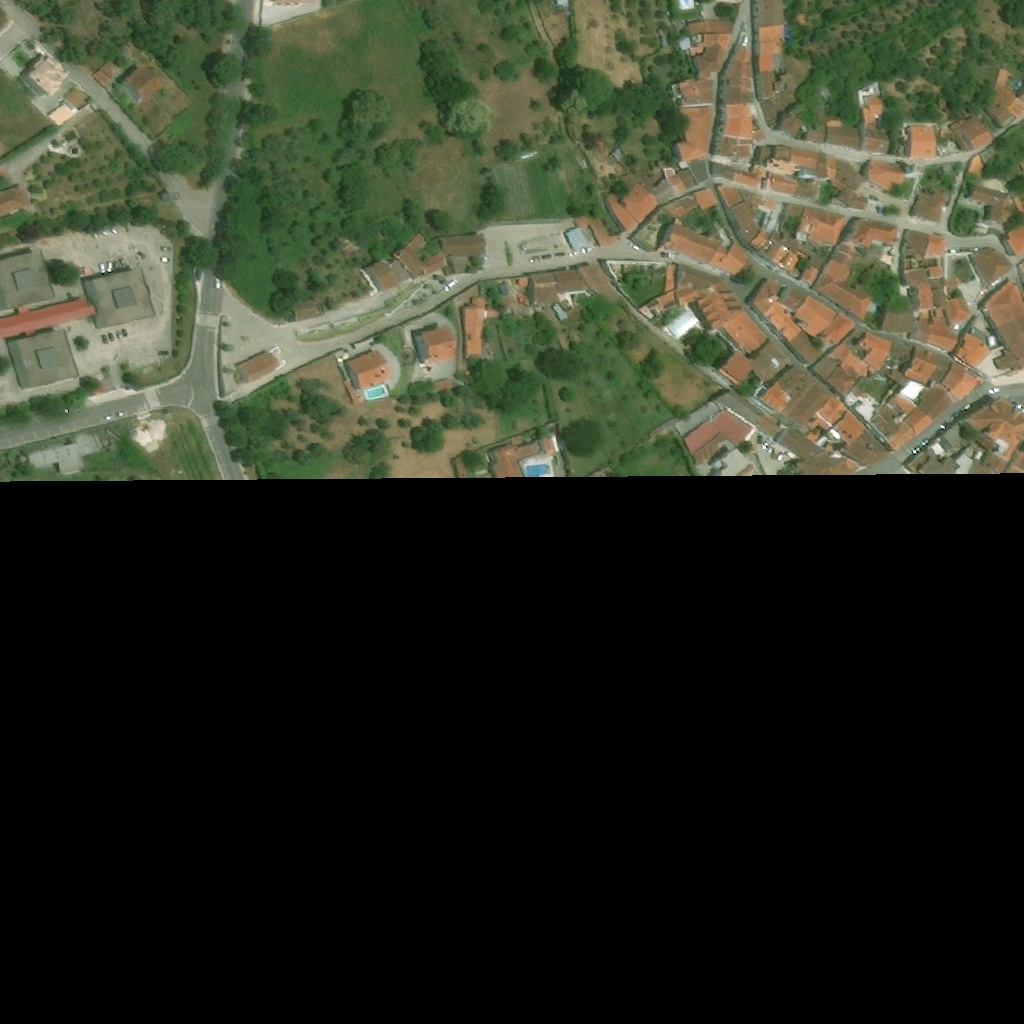0 no-damage: (810, 323, 988, 439), (744, 278, 854, 368), (898, 391, 1023, 463), (676, 266, 769, 356), (757, 365, 847, 432), (447, 421, 560, 469), (658, 219, 748, 275), (748, 146, 828, 207), (81, 266, 156, 330), (6, 328, 81, 392), (813, 243, 873, 321), (679, 409, 756, 465), (949, 96, 1018, 158), (24, 430, 118, 473), (714, 183, 777, 247), (750, 230, 820, 287), (748, 0, 787, 102), (980, 280, 1023, 372), (0, 297, 93, 338), (0, 248, 57, 310), (773, 427, 861, 466), (678, 73, 714, 160), (716, 25, 756, 102), (602, 182, 657, 232), (852, 80, 889, 151), (391, 232, 448, 273), (794, 205, 845, 246), (19, 55, 68, 97), (345, 348, 394, 389), (707, 154, 758, 189), (952, 325, 992, 369), (362, 257, 413, 291), (909, 315, 958, 350), (723, 105, 752, 163), (971, 183, 1011, 223), (120, 62, 162, 99), (970, 248, 1012, 285), (234, 351, 280, 382), (460, 297, 485, 354), (574, 218, 618, 249), (418, 324, 456, 359), (716, 351, 754, 385), (852, 219, 898, 246), (833, 410, 867, 444), (900, 229, 944, 254), (868, 162, 907, 190), (442, 233, 487, 257), (909, 192, 945, 222), (994, 79, 1023, 115), (527, 273, 557, 307), (883, 421, 915, 451), (905, 126, 936, 156), (698, 43, 728, 74), (0, 183, 27, 217), (879, 306, 916, 330), (837, 160, 865, 188), (945, 296, 972, 325), (665, 169, 696, 194), (825, 127, 861, 148), (552, 269, 586, 291), (968, 147, 995, 174), (905, 408, 933, 434), (776, 111, 803, 137), (650, 289, 675, 316), (91, 62, 115, 88), (908, 283, 932, 309), (289, 300, 317, 322), (661, 198, 689, 219), (684, 20, 732, 32), (565, 228, 588, 252), (693, 187, 717, 210), (898, 267, 927, 286), (835, 187, 855, 208), (702, 32, 729, 45), (662, 270, 675, 293), (852, 193, 869, 210), (680, 194, 698, 210), (995, 68, 1010, 86), (433, 378, 455, 389), (827, 157, 838, 177), (924, 267, 944, 276), (988, 336, 997, 346)
4 un-classified: (1003, 220, 1023, 257)
